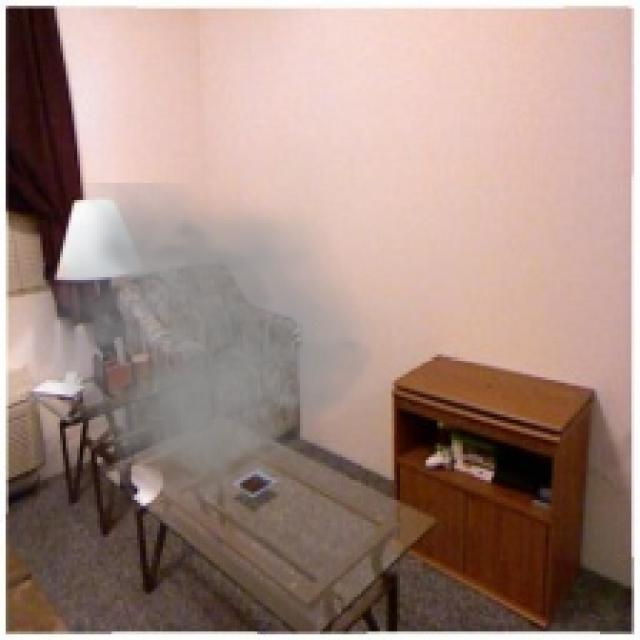smoke: (9, 183, 392, 540)
